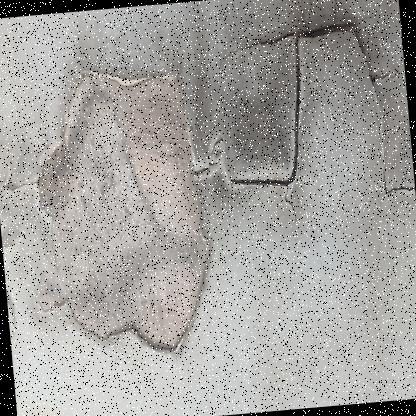Crack: (0, 0, 415, 394), (0, 18, 6, 54)
